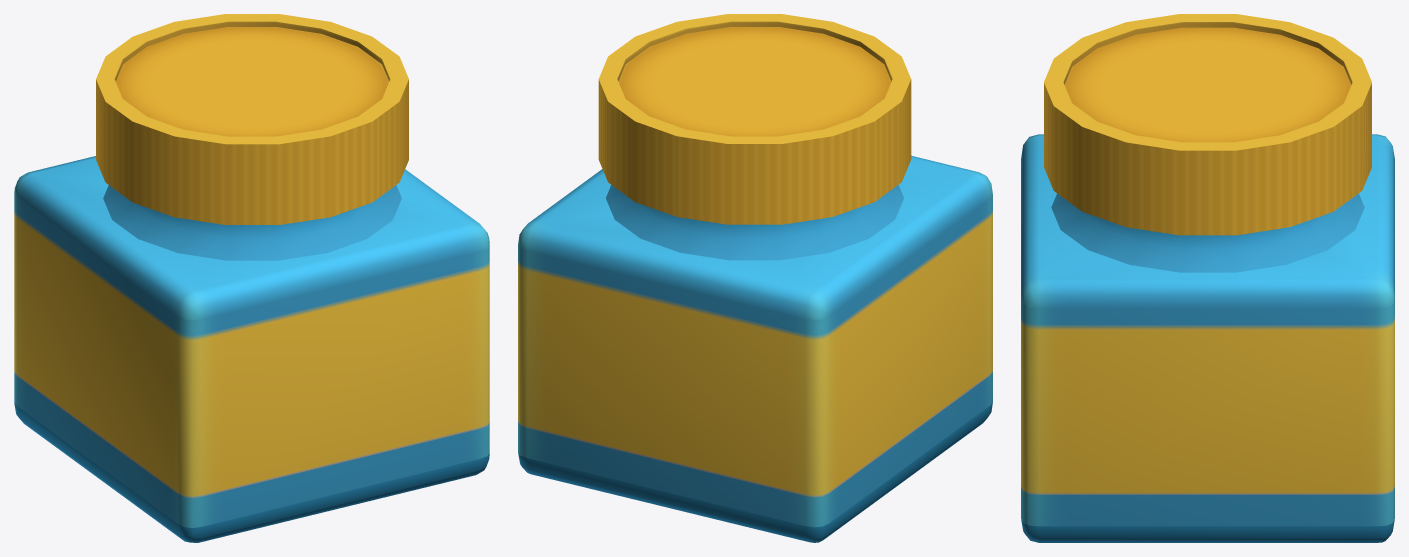
File: ENV2010070.fbx
The picture shows the model from 3 angles, left to right: view 1: azimuth 30°, elevation 25°; view 2: azimuth 150°, elevation 25°; view 3: azimuth 270°, elevation 25°; orthographic projection. The views are drawn at different scales.
Visible parts, largest first — view 1: smENV2010070; view 2: smENV2010070; view 3: smENV2010070.
Boxes of the visible parts, x1,y1,x2,y2 form: smENV2010070: (14,14,489,542); smENV2010070: (518,14,992,542); smENV2010070: (1021,14,1394,542).
Size of the model in its own units: 5.99 by 6.86 by 5.99.
Materials: 1 (1 with a texture image).
